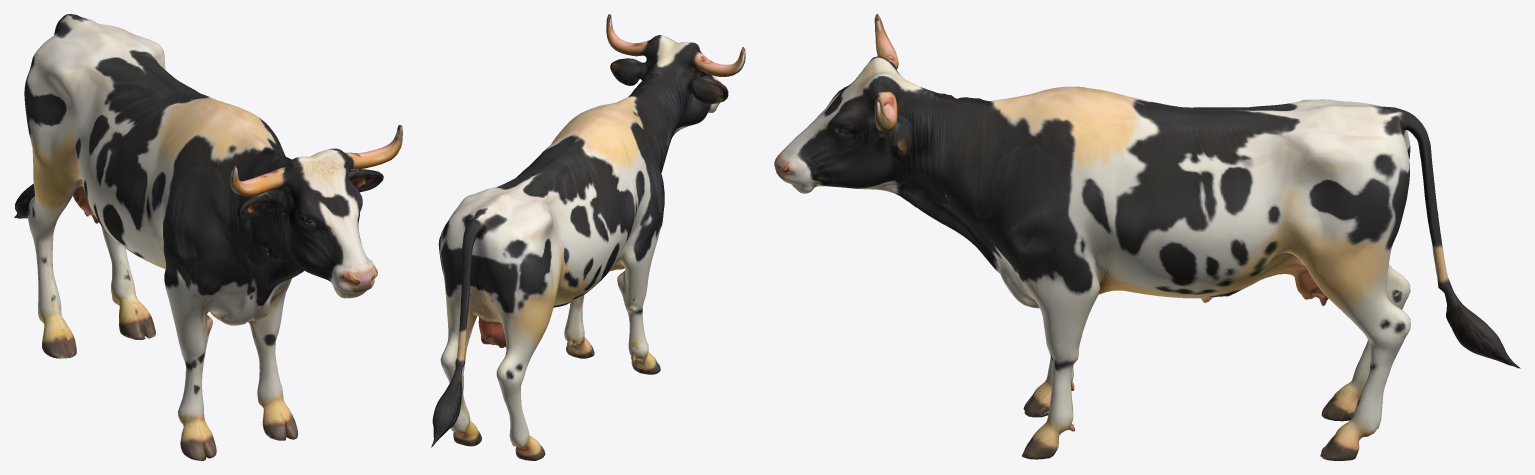
The model's file is Cow_0715150346_texture.fbx.
3 views of the same model, side by side, from view 1: azimuth 30°, elevation 25°; view 2: azimuth 150°, elevation 25°; view 3: azimuth 270°, elevation 25° (orthographic). The views are drawn at different scales.
Visible parts, largest first — view 1: Mesh_0; view 2: Mesh_0; view 3: Mesh_0.
Boxes of the visible parts, left/top/right/bottom form: Mesh_0: left=14, top=14, right=402, bottom=460; Mesh_0: left=431, top=14, right=745, bottom=460; Mesh_0: left=774, top=14, right=1520, bottom=460.
Size of the model in its own units: 55.83 by 111 by 199.
Materials: 1 (1 with a texture image).
